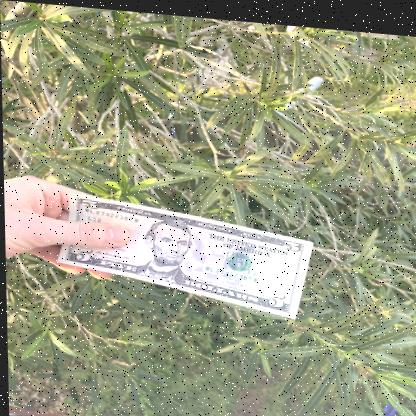five-front: (57, 192, 313, 321)
